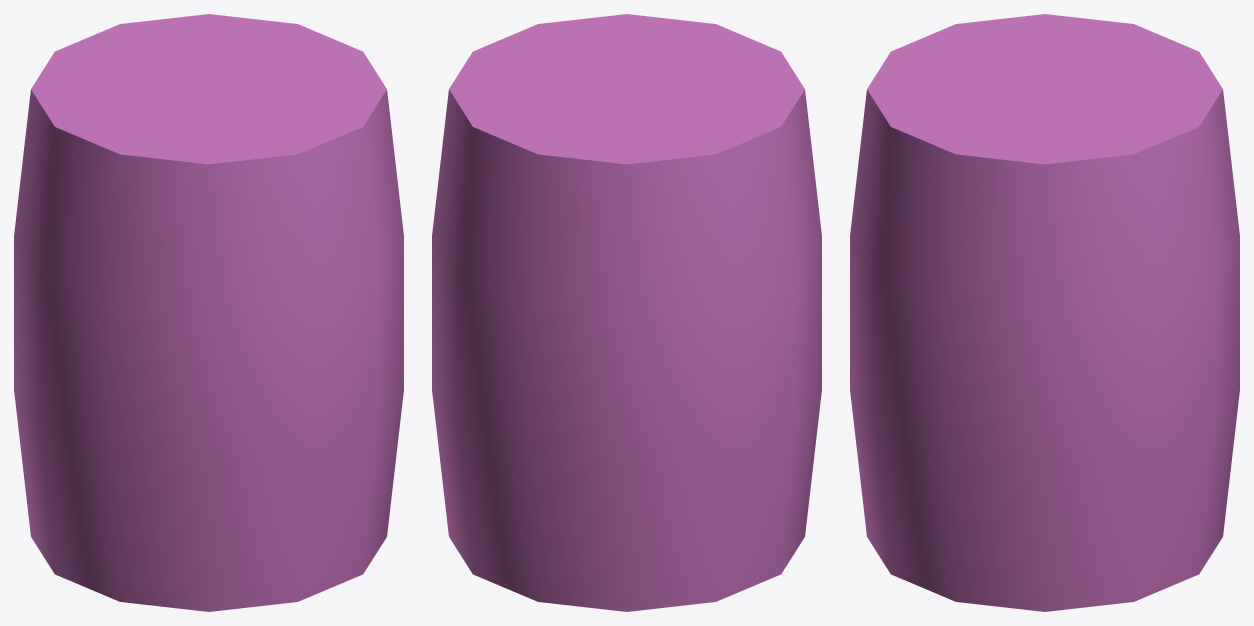
The model's file is Barrel_Short.fbx.
The picture shows the model from 3 angles, left to right: view 1: azimuth 30°, elevation 25°; view 2: azimuth 150°, elevation 25°; view 3: azimuth 270°, elevation 25°; orthographic projection.
Parts seen in each view (by area): view 1: Barrel_Short; view 2: Barrel_Short; view 3: Barrel_Short.
Boxes of the visible parts, x1=… form: Barrel_Short: x1=14, y1=14, x2=403, y2=611; Barrel_Short: x1=432, y1=14, x2=821, y2=611; Barrel_Short: x1=850, y1=14, x2=1239, y2=611.
Bounding box in the file's own units: 58.83 × 74.49 × 58.83.
